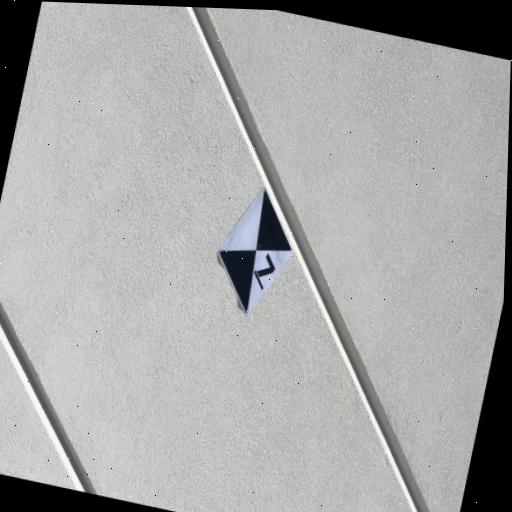target7: (216, 185, 293, 318)
